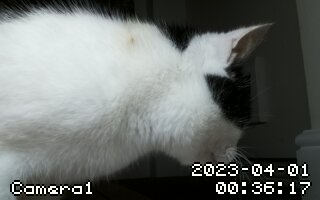bad: (3, 8, 272, 197)
